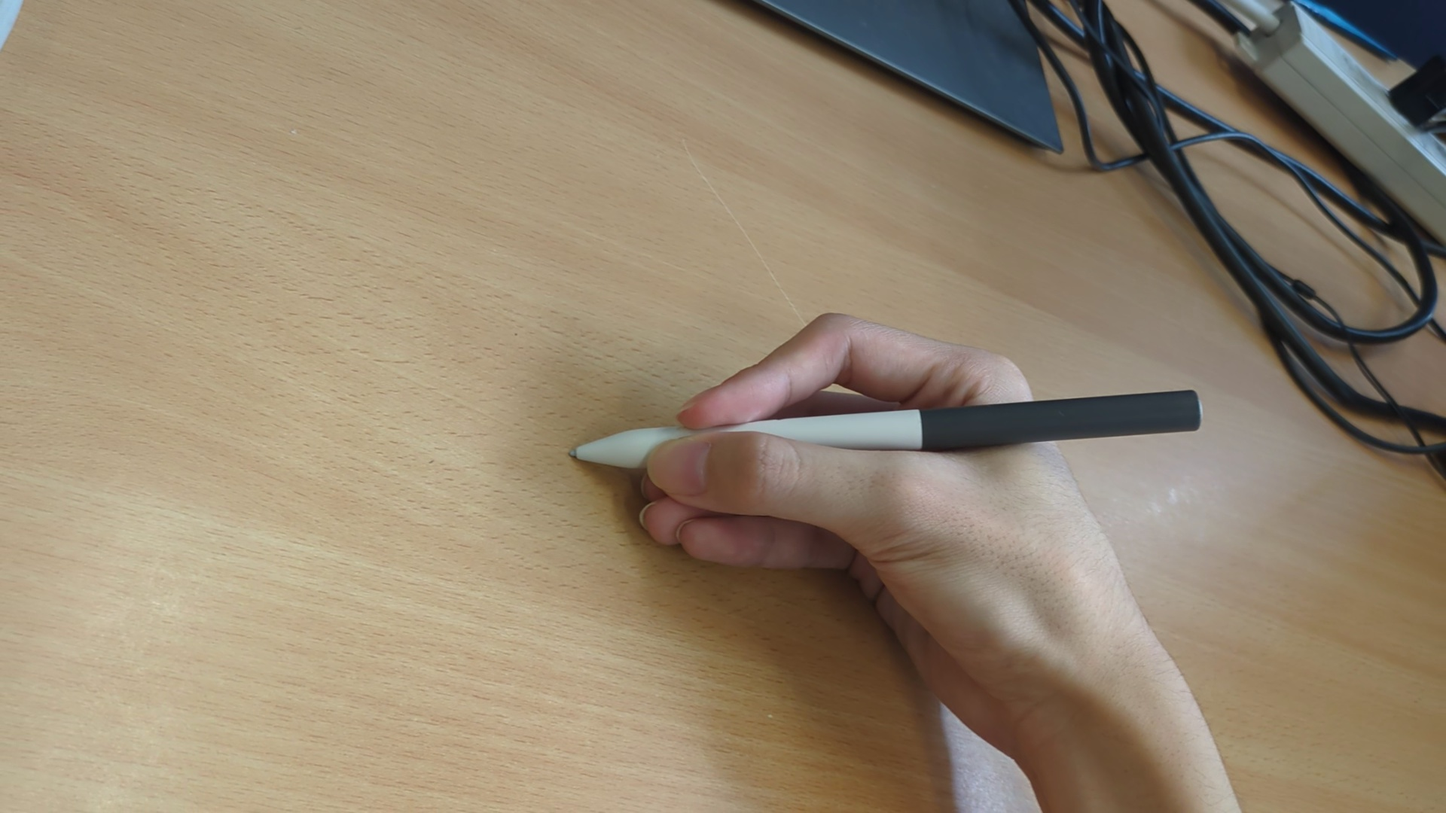pen: (564, 385, 1207, 475)
tip: (566, 437, 597, 469)
